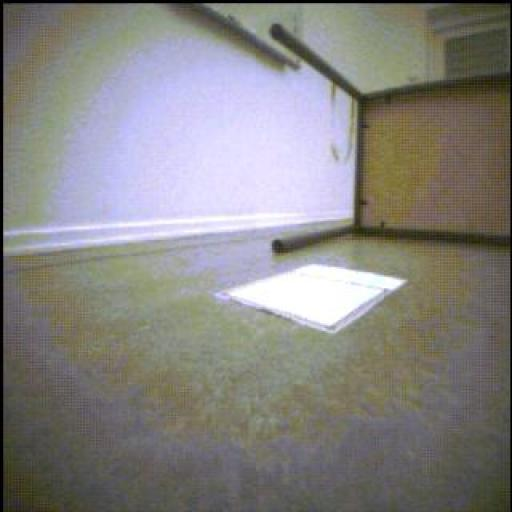Pad: (217, 265, 407, 334)
